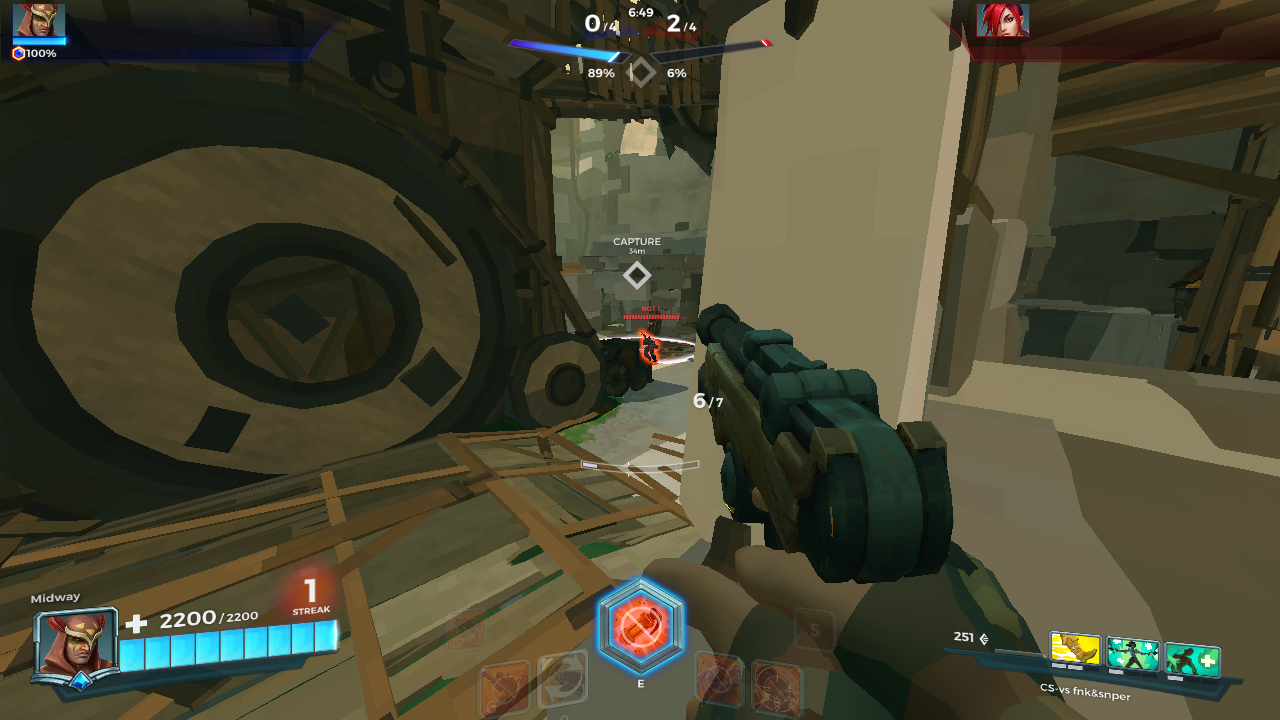model: (640, 327, 660, 364)
